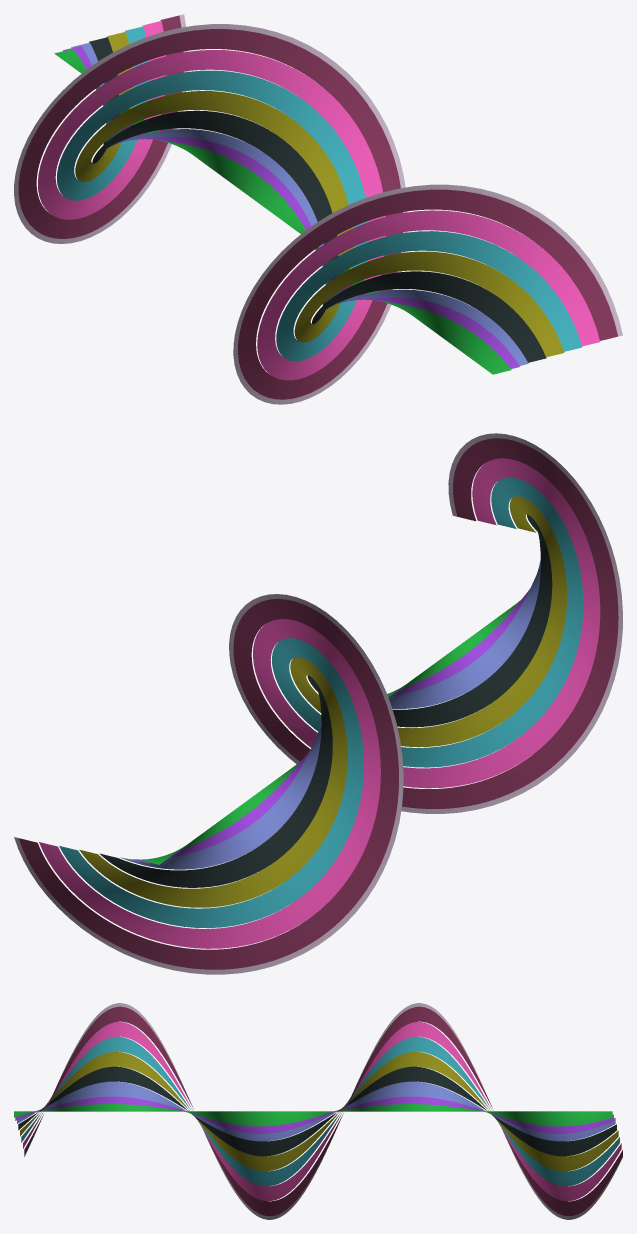
File: Coils.fbx
The picture shows the model from 3 angles, top to bottom: view 1: azimuth 30°, elevation 25°; view 2: azimuth 150°, elevation 25°; view 3: azimuth 270°, elevation 25°; orthographic projection. The views are drawn at different scales.
Visible parts, largest first — view 1: Coil08, Coil07, Coil06, Coil05, Coil04, Coil09, Coil01, Coil03, Coil02; view 2: Coil08, Coil07, Coil06, Coil05, Coil04, Coil09, Coil03, Coil02, Coil01; view 3: Coil08, Coil04, Coil05, Coil06, Coil07, Coil01, Coil03, Coil02, Coil09.
Boxes of the visible parts, x1,y1,x2,y2 form: Coil08: (18, 15, 617, 399); Coil07: (38, 21, 600, 380); Coil06: (57, 26, 582, 361); Coil05: (75, 32, 564, 357); Coil04: (89, 37, 546, 362); Coil09: (14, 14, 622, 404); Coil01: (54, 49, 511, 374); Coil03: (71, 42, 528, 365); Coil02: (63, 45, 519, 368); Coil08: (19, 438, 618, 969); Coil07: (39, 458, 600, 948); Coil06: (59, 477, 583, 928); Coil05: (79, 496, 567, 907); Coil04: (99, 514, 552, 887); Coil09: (14, 433, 622, 974); Coil03: (120, 558, 540, 869); Coil02: (132, 589, 529, 863); Coil01: (141, 600, 520, 864); Coil08: (24, 1006, 622, 1215); Coil04: (18, 1066, 616, 1156); Coil05: (20, 1051, 618, 1171); Coil06: (21, 1036, 619, 1186); Coil07: (23, 1021, 621, 1201); Coil01: (14, 1104, 612, 1126); Coil03: (17, 1081, 615, 1141); Coil02: (15, 1096, 613, 1133); Coil09: (24, 1003, 622, 1219).
Bounding box in the file's own units: 1450 × 1450 × 4070.
